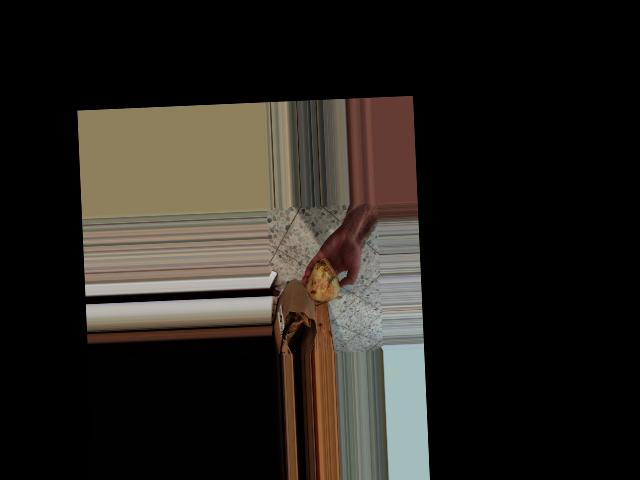onion: (303, 254, 341, 307)
